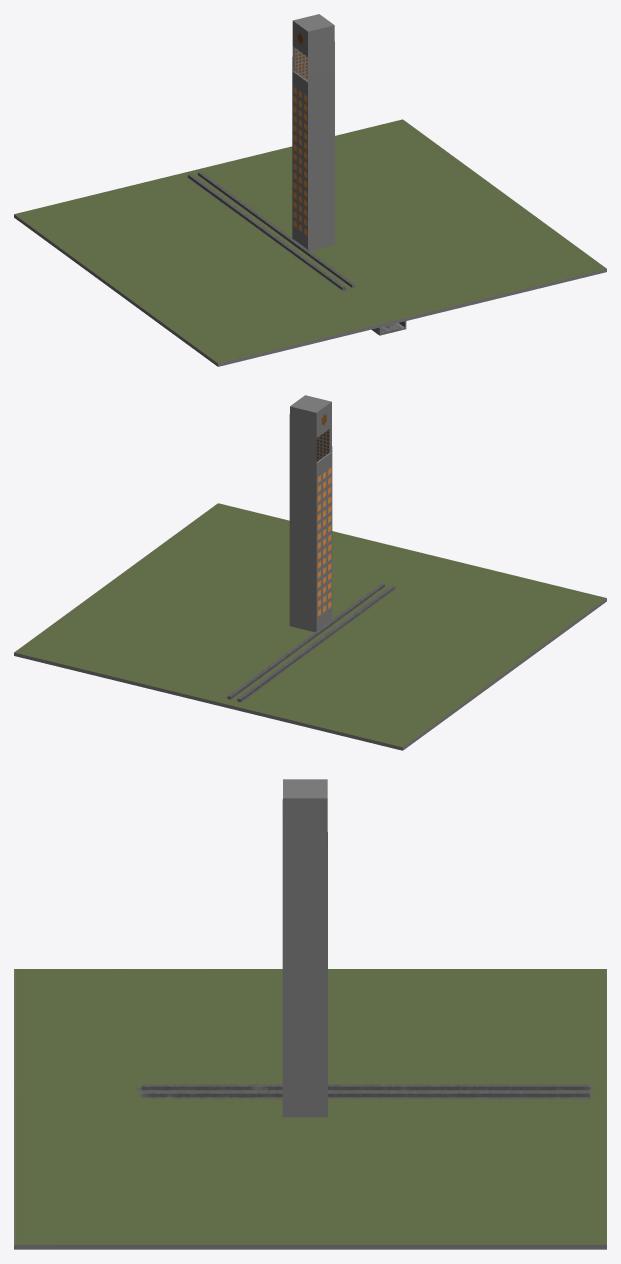
Rendered from Non_building_LVL1.fbx.
The picture shows the model from 3 angles, top to bottom: view 1: azimuth 30°, elevation 25°; view 2: azimuth 150°, elevation 25°; view 3: azimuth 270°, elevation 25°; orthographic projection. The views are drawn at different scales.
Visible parts, largest first — view 1: MySkyscraper1; view 2: MySkyscraper1; view 3: MySkyscraper1.
Part boxes in pixels (<box>): MySkyscraper1: <box>14,14,606,366</box>; MySkyscraper1: <box>14,395,606,750</box>; MySkyscraper1: <box>14,779,606,1249</box>.
Bounding box in the file's own units: 120611 × 74547 × 109637.
Materials: 1 (1 with a texture image).
